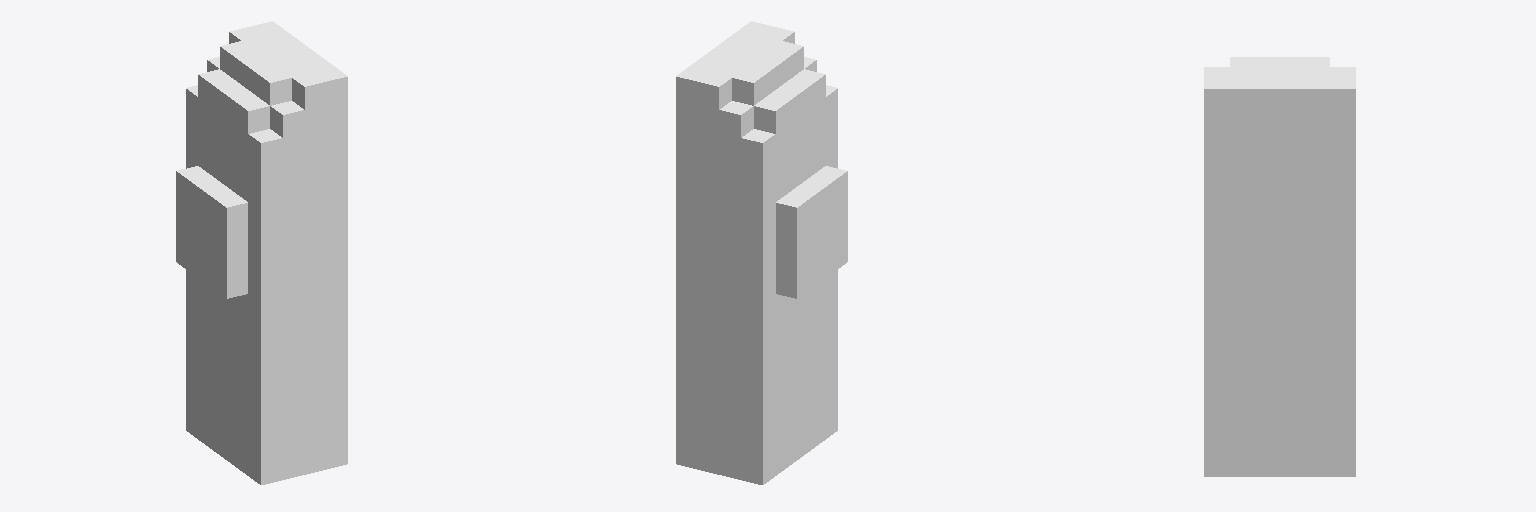
The model's file is CoopSHT-2.obj.
3 views of the same model, side by side, from view 1: azimuth 30°, elevation 25°; view 2: azimuth 150°, elevation 25°; view 3: azimuth 270°, elevation 25° (orthographic).
Parts seen in each view (by area): view 1: object 1; view 2: object 1; view 3: object 1.
Part boxes in pixels (bbox=[...]): object 1: bbox=[176, 21, 347, 484]; object 1: bbox=[676, 21, 847, 484]; object 1: bbox=[1204, 57, 1355, 476].
Size of the model in its own units: 0.5 by 1.7 by 0.6.